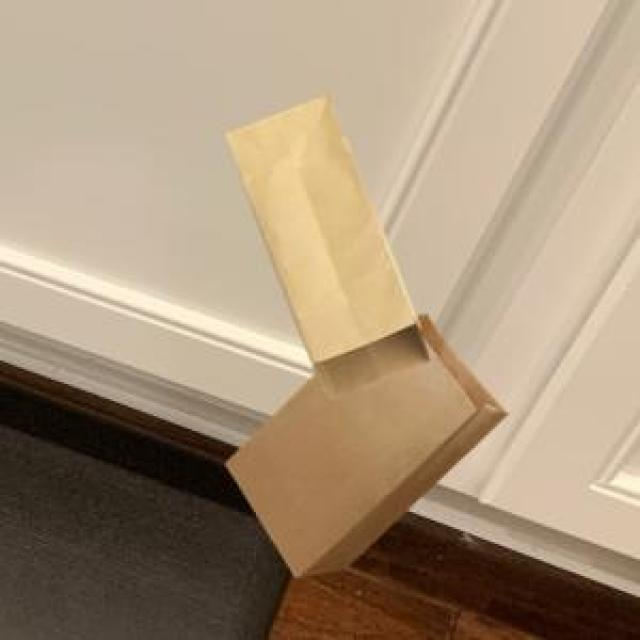paper: (222, 312, 504, 574), (222, 92, 425, 395)
